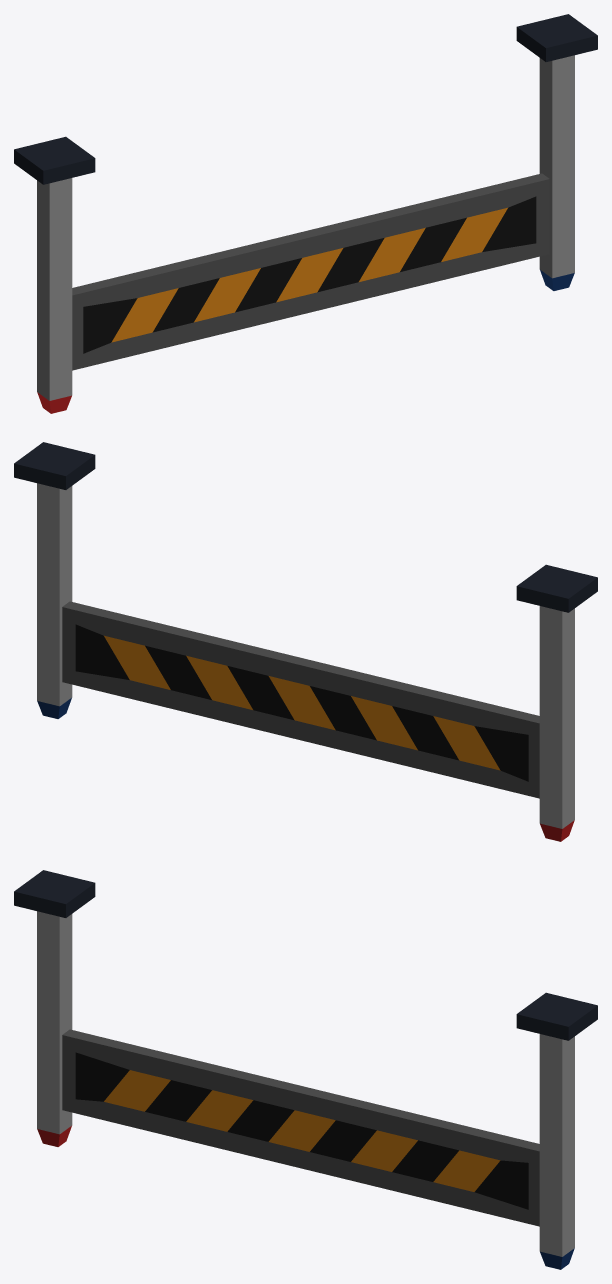
File: Police_Fence.FBX
The picture shows the model from 3 angles, top to bottom: view 1: azimuth 30°, elevation 25°; view 2: azimuth 150°, elevation 25°; view 3: azimuth 330°, elevation 25°; orthographic projection.
Parts seen in each view (by area): view 1: police fence; view 2: police fence; view 3: police fence.
Part boxes in pixels (box(x1,y1,x2,y2)): police fence: box(14, 14, 597, 413); police fence: box(14, 442, 597, 841); police fence: box(14, 870, 597, 1269).
Bounding box in the file's own units: 20.8 × 9.15 × 1.91.
